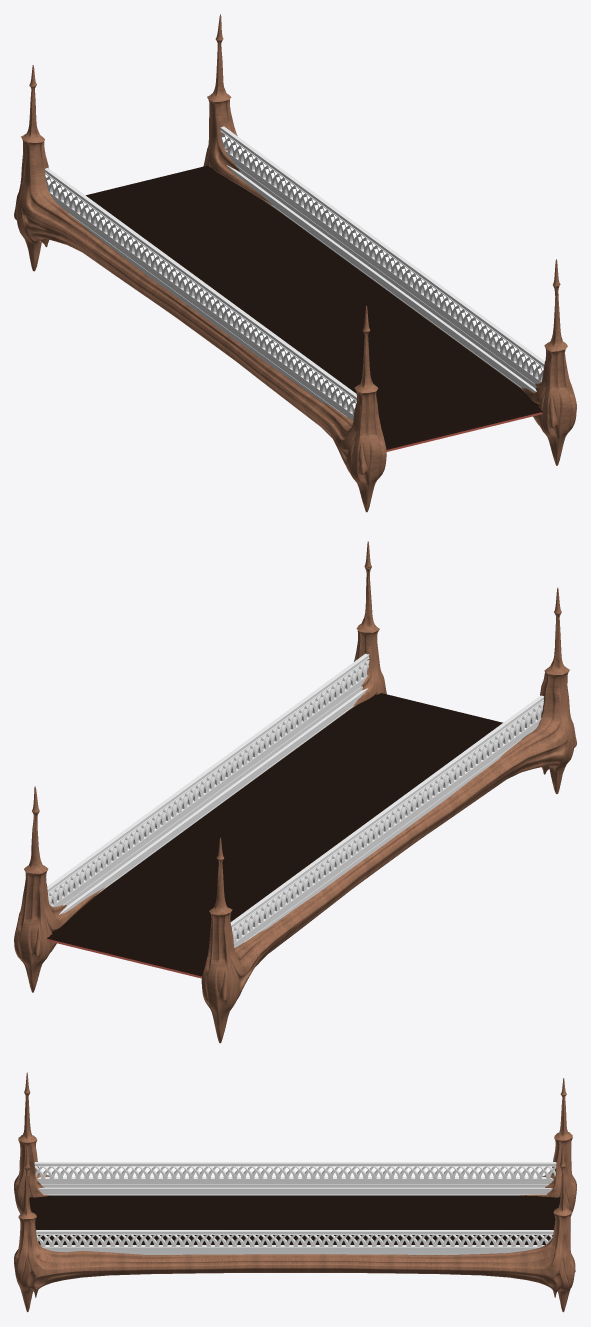
Rendered from Geonosis_BridgeStraight.fbx.
3 views of the same model, one above another, from view 1: azimuth 30°, elevation 25°; view 2: azimuth 150°, elevation 25°; view 3: azimuth 270°, elevation 25° (orthographic). The views are drawn at different scales.
Parts seen in each view (by area): view 1: Geonosis_Bridge_Straight; view 2: Geonosis_Bridge_Straight; view 3: Geonosis_Bridge_Straight.
Part boxes in pixels (box(x1,y1,x2,y2)): Geonosis_Bridge_Straight: box(14, 14, 576, 512); Geonosis_Bridge_Straight: box(14, 541, 576, 1043); Geonosis_Bridge_Straight: box(14, 1072, 576, 1312).
Bounding box in the file's own units: 621 × 557 × 1677.
